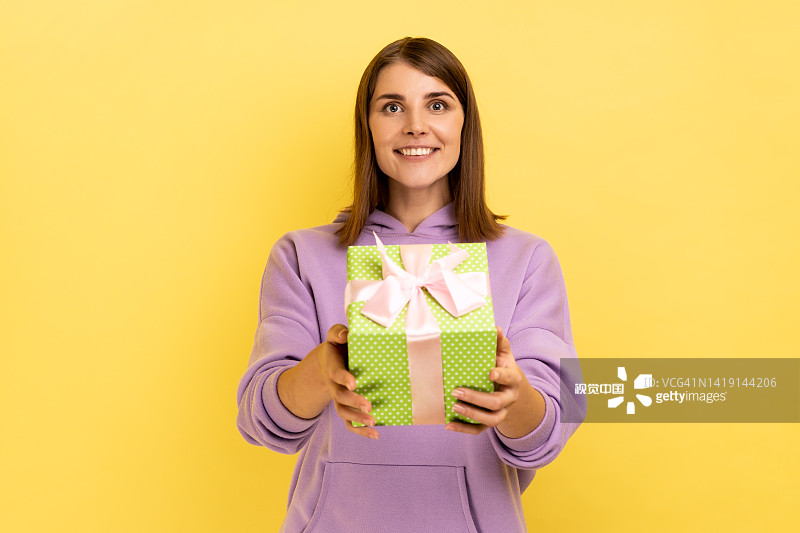no-phone: (445, 322, 536, 449), (307, 317, 388, 449)
